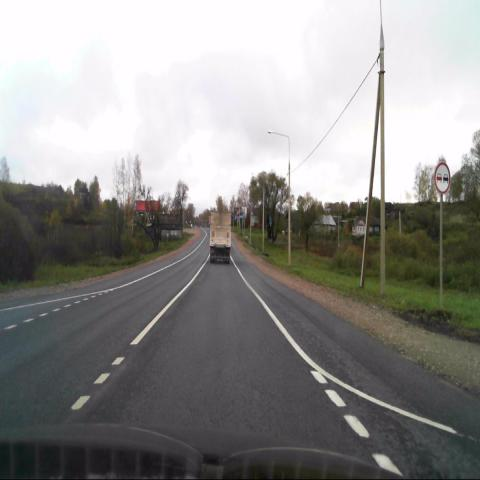3_20: (434, 162, 451, 194)
